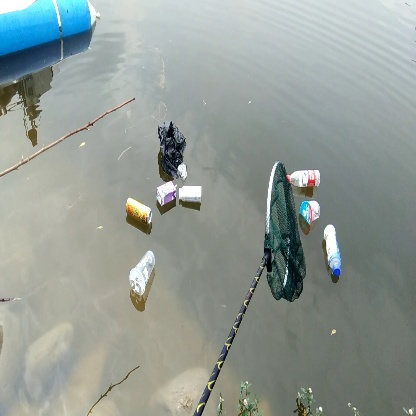bottle: (320, 224, 347, 282), (127, 250, 157, 298), (284, 167, 323, 188), (125, 197, 153, 226)
milk-box: (156, 179, 177, 204)
plastic-bag: (153, 122, 190, 178)
